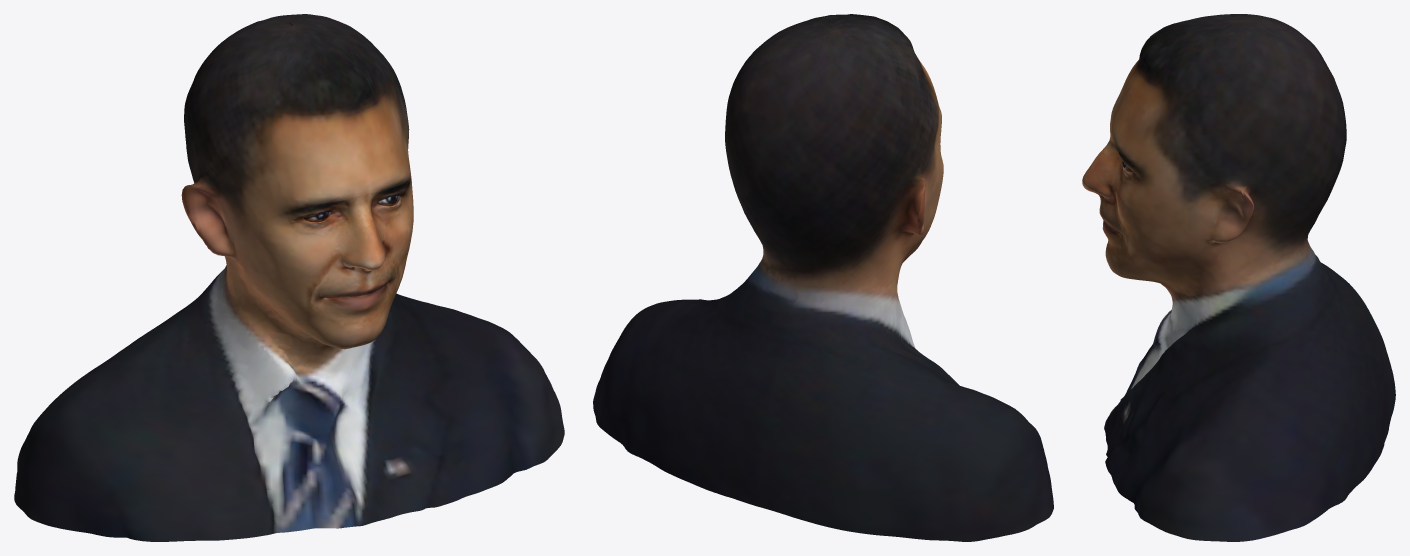
The model's file is barack_obama.glb.
3 renders of one model, left to right at view 1: azimuth 30°, elevation 25°; view 2: azimuth 150°, elevation 25°; view 3: azimuth 270°, elevation 25°, orthographic. The views are drawn at different scales.
Parts seen in each view (by area): view 1: Object_2; view 2: Object_2; view 3: Object_2.
Part boxes in pixels (x1=…): Object_2: x1=14, y1=14, x2=564, y2=541; Object_2: x1=593, y1=14, x2=1053, y2=541; Object_2: x1=1082, y1=14, x2=1395, y2=541.
Size of the model in its own units: 0.4434 by 0.3801 by 0.2643.
1 material, 1 textured.
